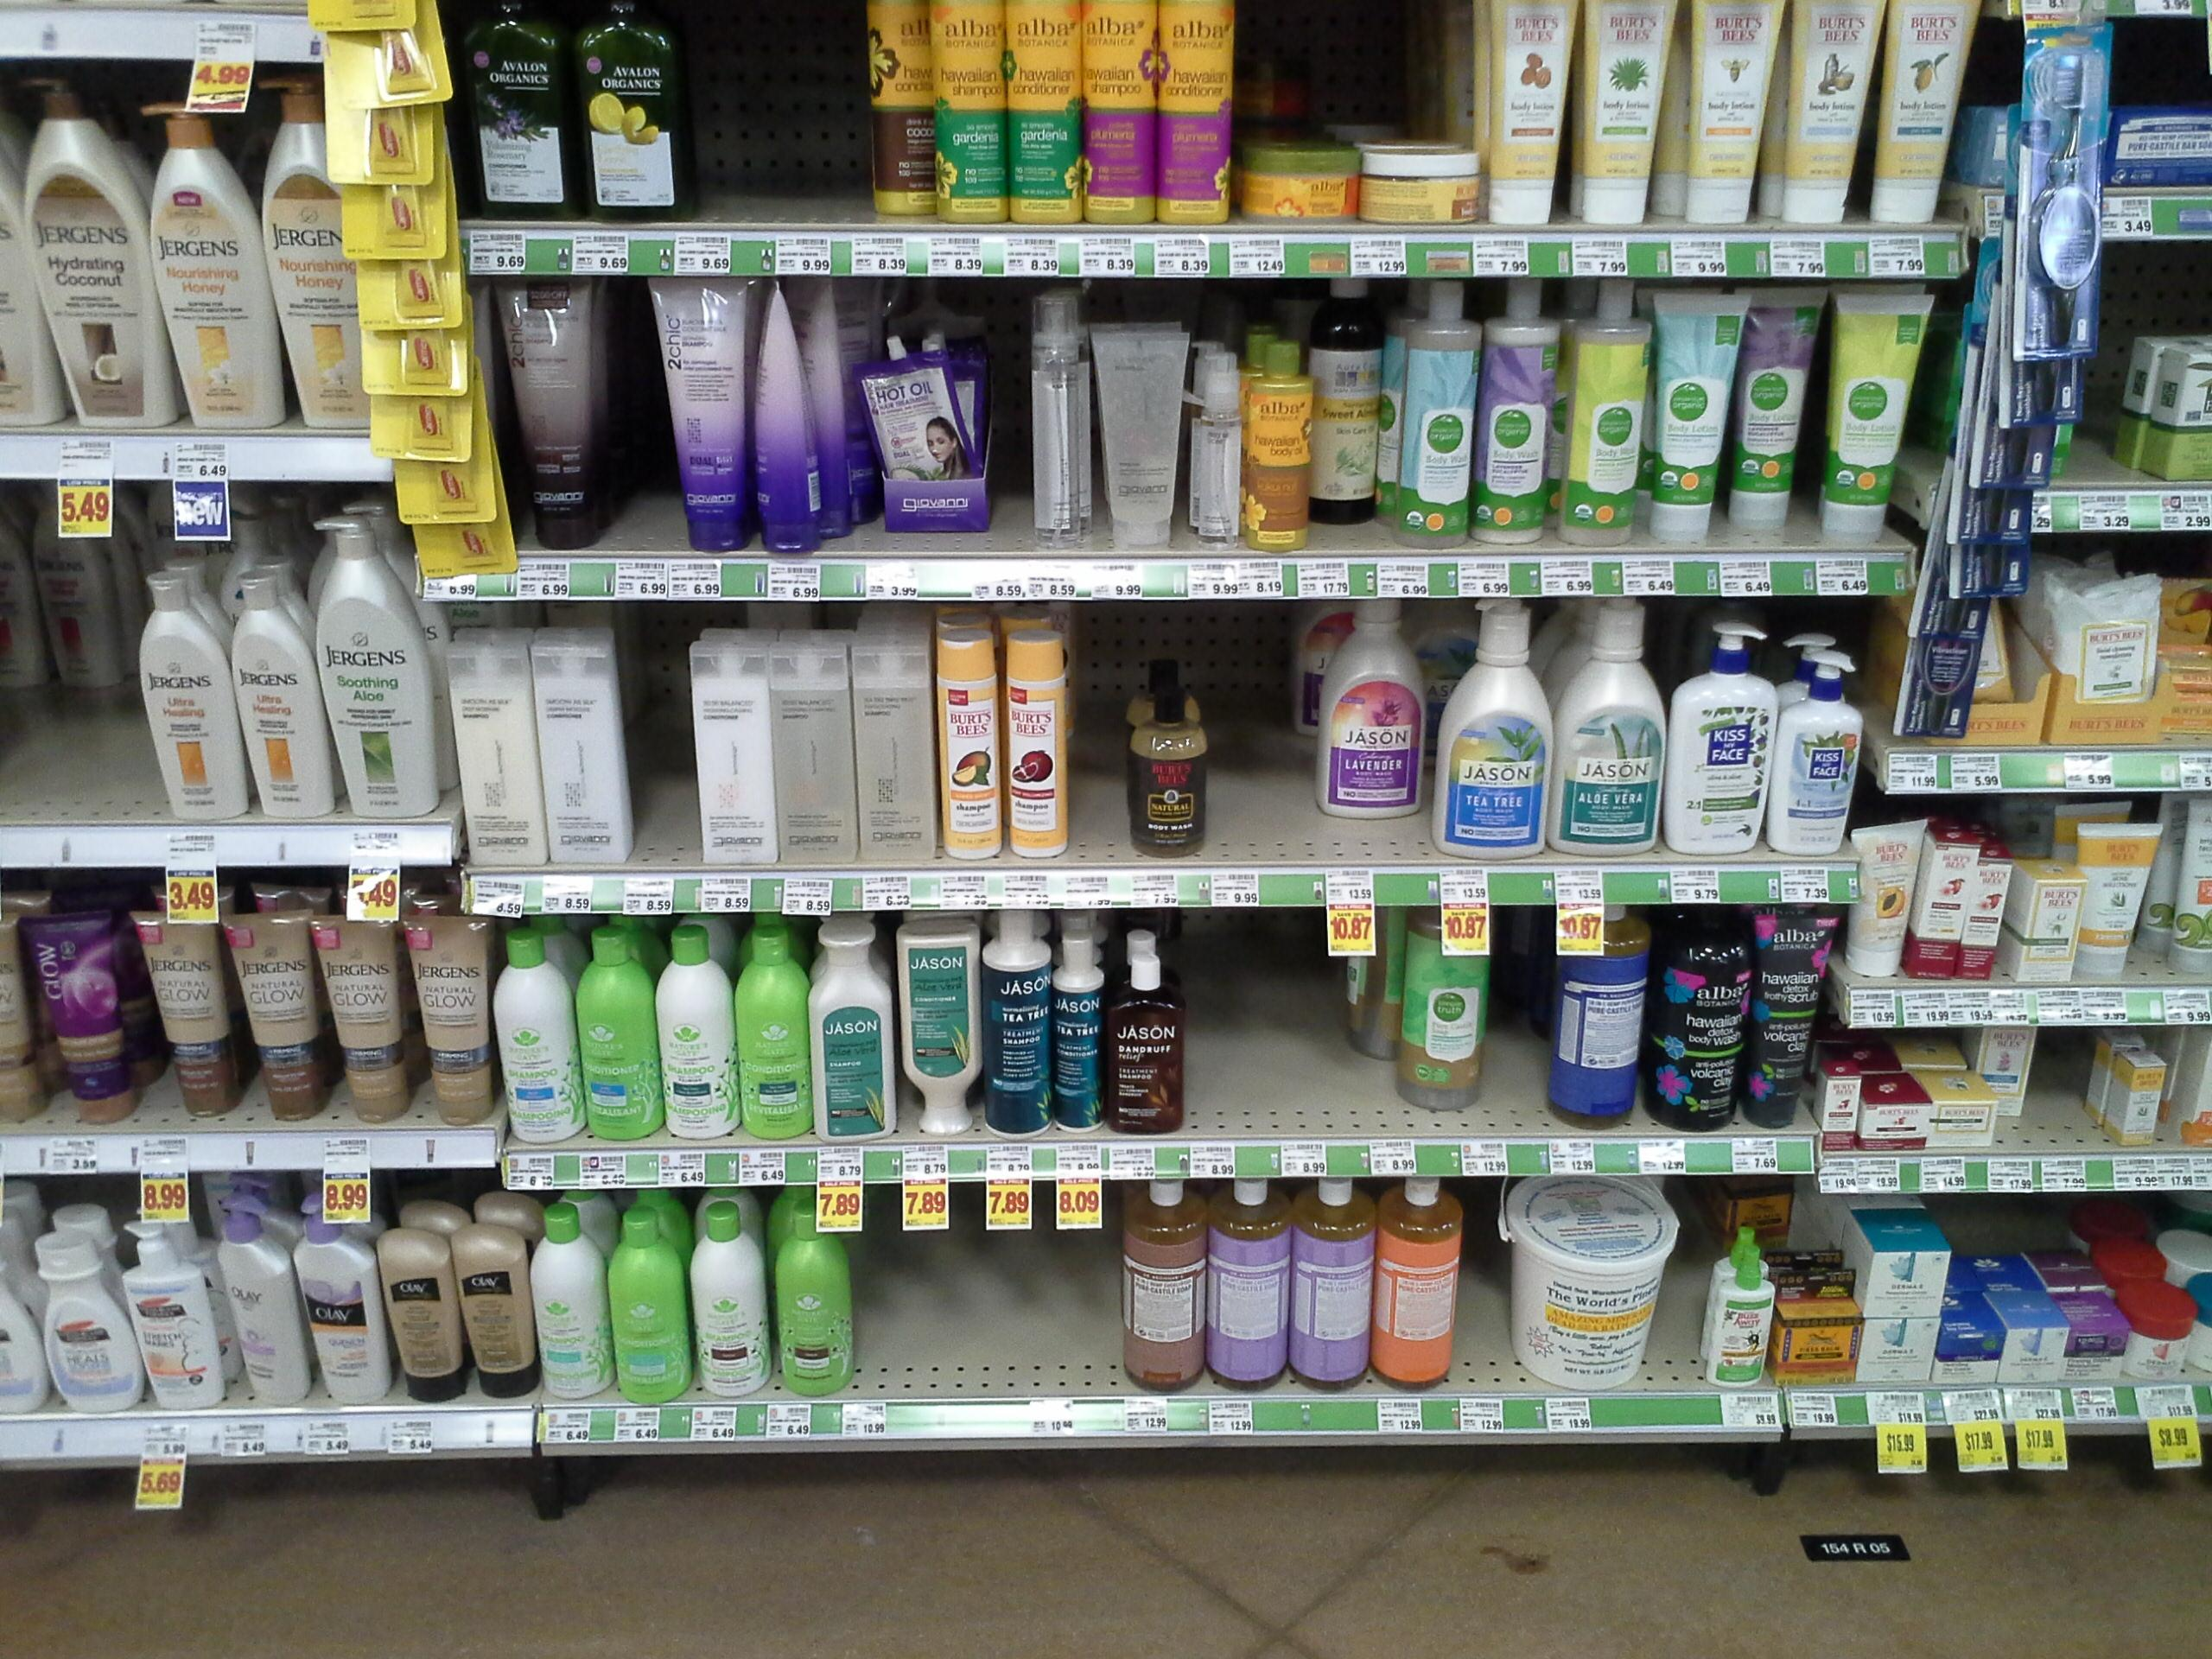empty: (695, 17, 864, 221), (0, 615, 138, 819), (1211, 662, 1318, 857), (596, 317, 671, 556), (1322, 5, 1444, 145), (855, 1239, 958, 1398), (627, 653, 693, 871), (1268, 976, 1341, 1136), (1339, 976, 1413, 1136), (1484, 974, 1557, 1134), (1453, 1232, 1526, 1391), (1190, 972, 1261, 1133), (960, 1241, 1031, 1399), (1042, 1241, 1113, 1399), (1066, 695, 1137, 854), (1653, 1234, 1709, 1387), (2047, 1023, 2101, 1154), (2087, 343, 2141, 474)
